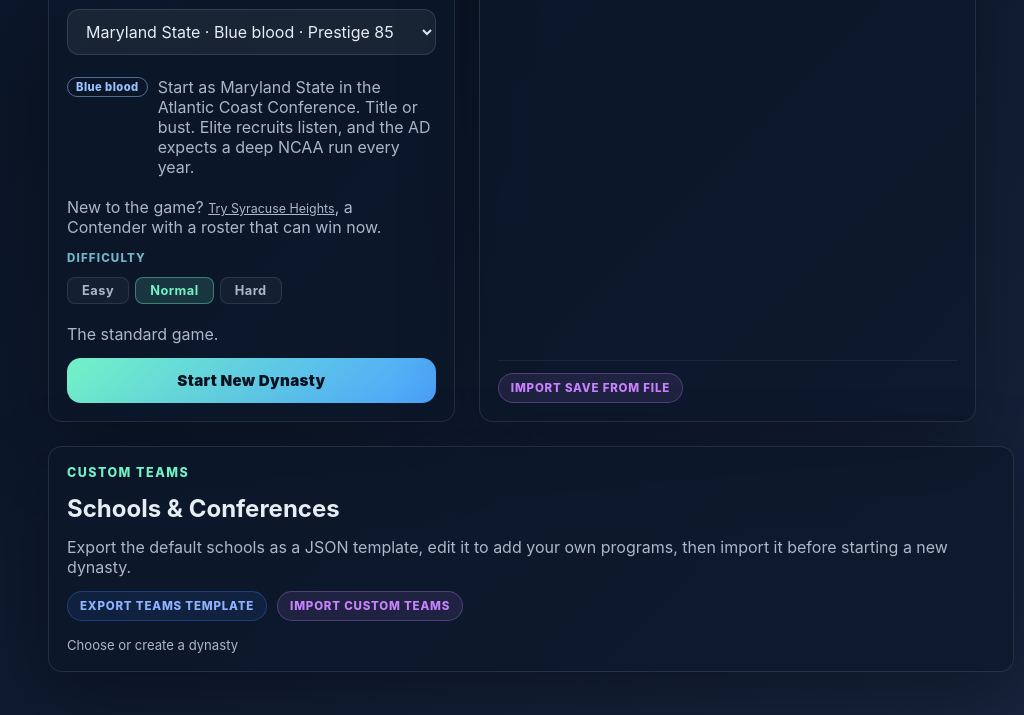
Test: Desktop App › switches to the team tab and shows the full roster/depth chart screen
(page scrolled)
Click the button "Start New Dynasty". click: (251, 380)
box: [67,358,436,403]
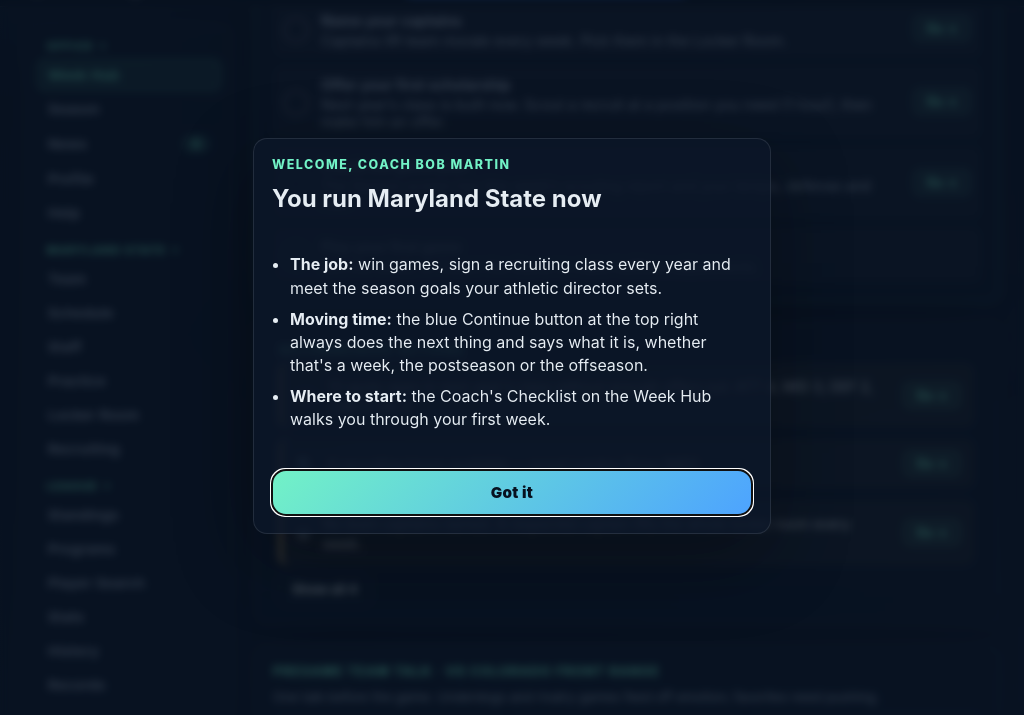
Click the button "Got it". click: (512, 492)
box: [272,470,752,515]
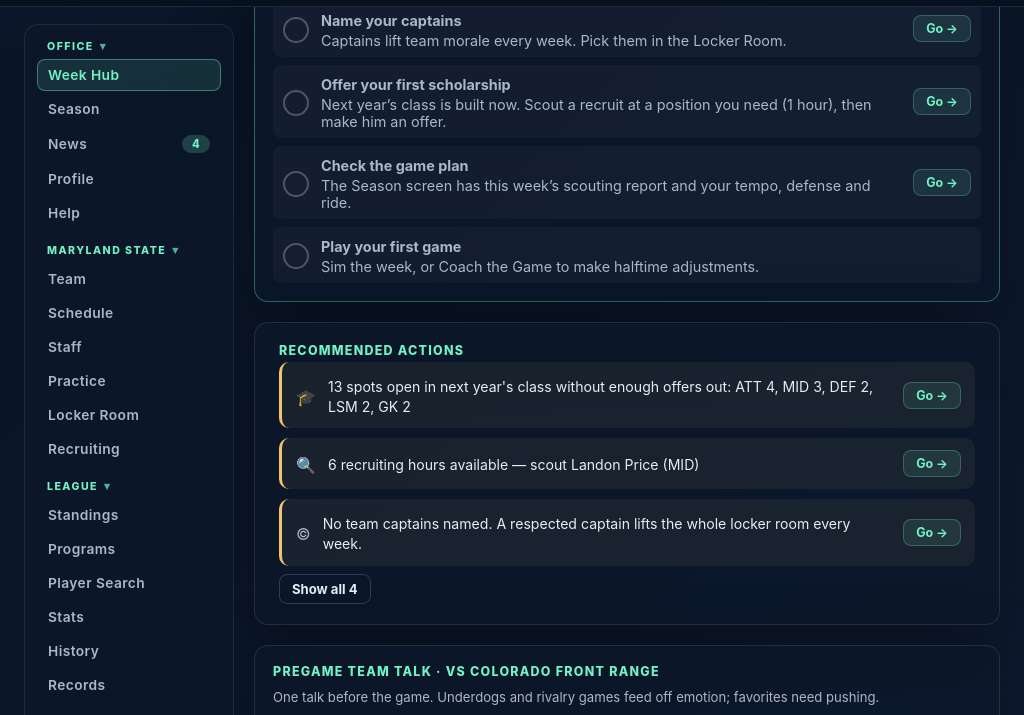
Click the button "Team". click: (129, 279)
box: [37,263,221,295]
(page scrolled)
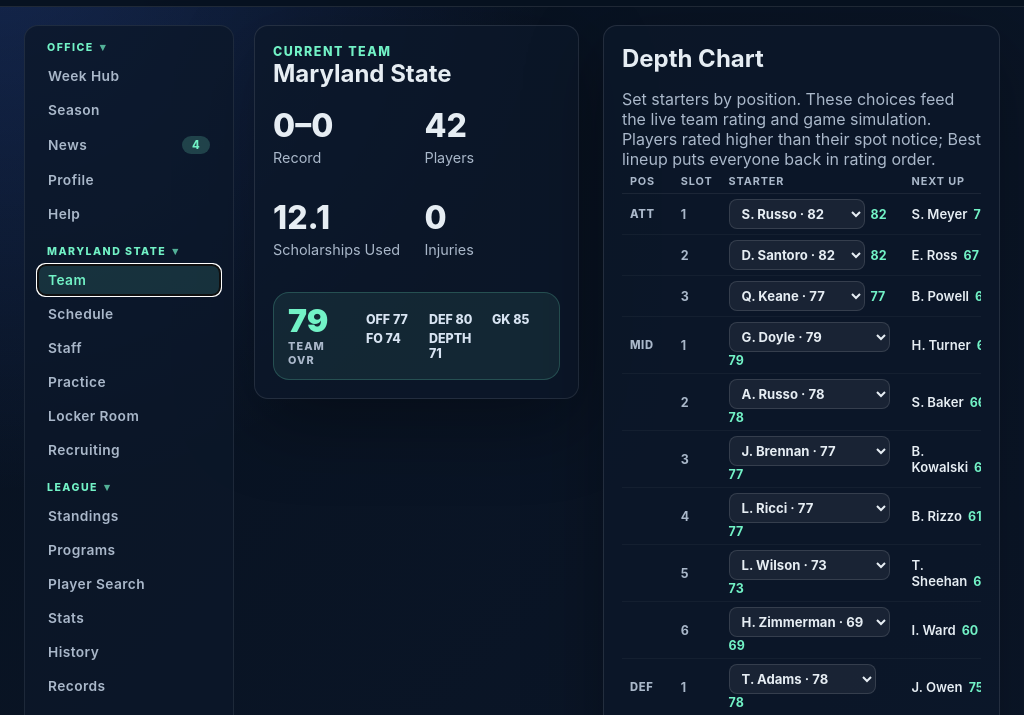
Expected: the text "Current Team" is shown, [273,44,392,59]
Expected: the heading "Depth Chart" is shown, [622,44,764,73]
Expected: the element named "Team rating summary" shows "DEPTH", [429,330,471,346]
